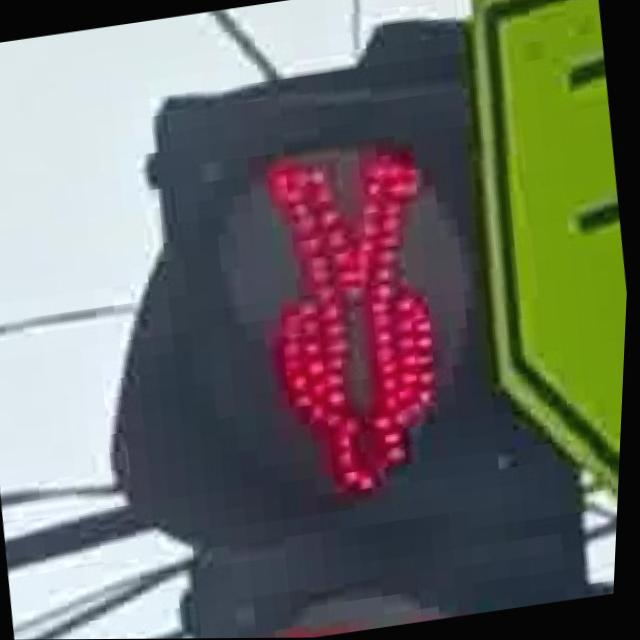red_light: (230, 133, 476, 534)
